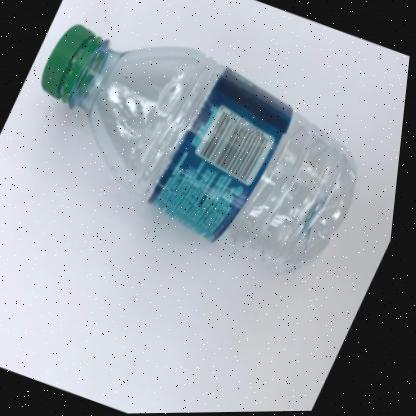Plastic: (43, 24, 361, 272)
